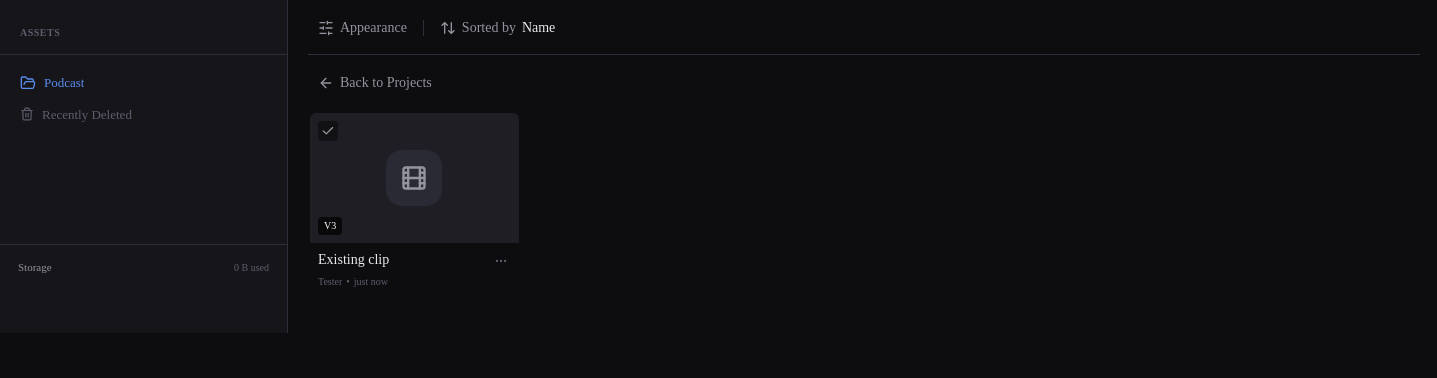
§232 — Share and Download are in the grid card ··· menu › a viewer gets Download and Copy URL, and NOT Share, Rename or Delete
Step 1. Click the 4th button → click(501, 262), box top-left (491, 252), bottom-right (511, 272)
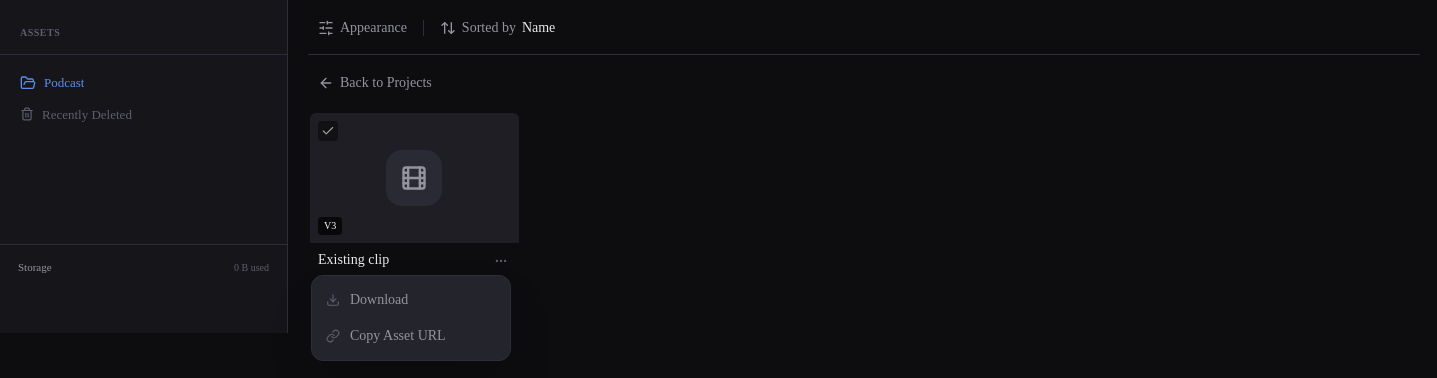
Expected: the menu item "Download" is shown, top-left (326, 292), bottom-right (408, 307)
Expected: the menu item "Copy Asset URL" is shown, top-left (326, 328), bottom-right (446, 343)
